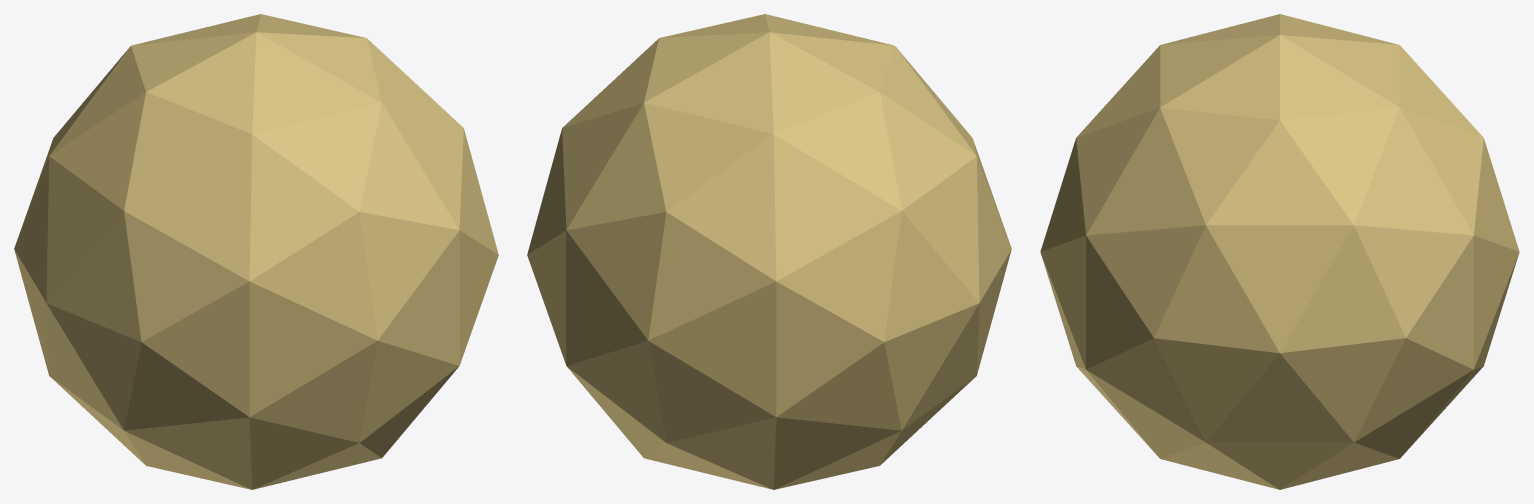
The model's file is soul_core.glb.
The picture shows the model from 3 angles, left to right: view 1: azimuth 30°, elevation 25°; view 2: azimuth 150°, elevation 25°; view 3: azimuth 270°, elevation 25°; orthographic projection.
Visible parts, largest first — view 1: geometry_0; view 2: geometry_0; view 3: geometry_0.
Part boxes in pixels (left/top/right/bottom): geometry_0: left=14, top=14, right=498, bottom=489; geometry_0: left=527, top=14, right=1011, bottom=489; geometry_0: left=1040, top=14, right=1519, bottom=489.
Bounding box in the file's own units: 0.64 × 0.64 × 0.64.
